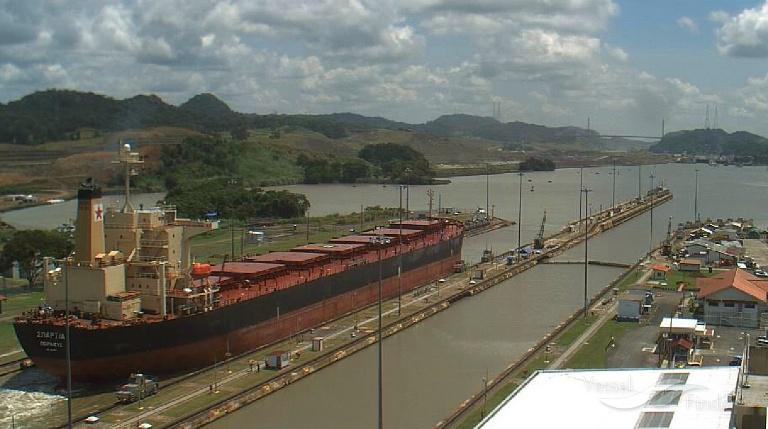OCR: (28, 326, 76, 354)
